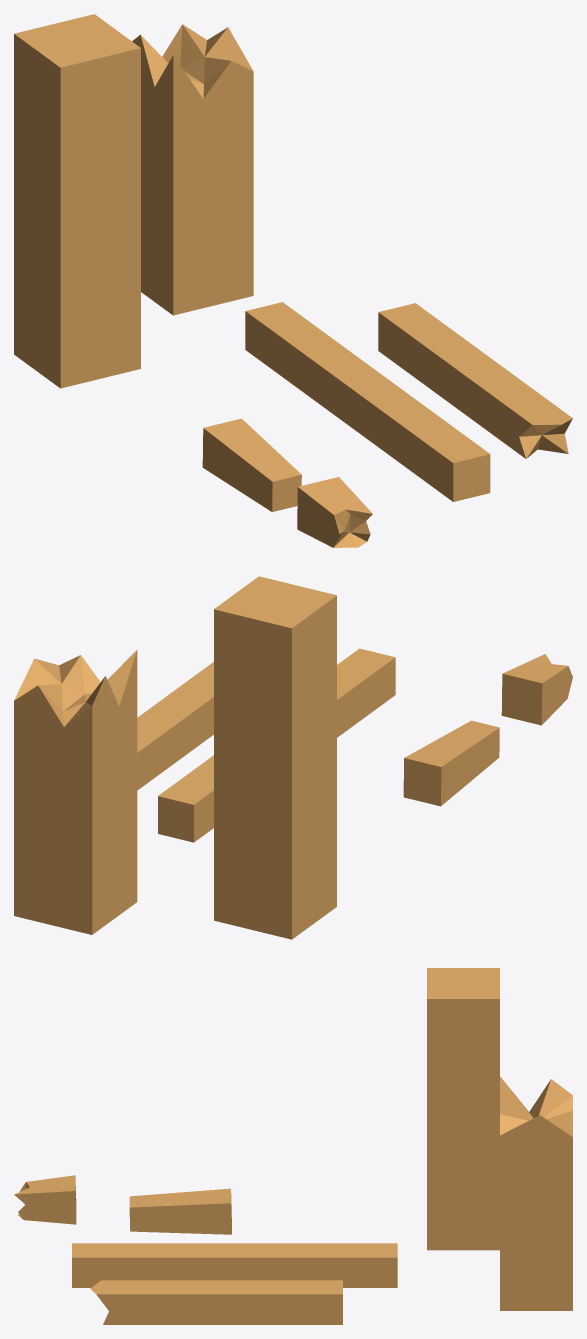
File: Fence-Pieces.fbx
3 renders of one model, top to bottom at view 1: azimuth 30°, elevation 25°; view 2: azimuth 150°, elevation 25°; view 3: azimuth 270°, elevation 25°, orthographic. The views are drawn at different scales.
Visible parts, largest first — view 1: Fence-piece-1, Fence-piece-1-b, Fence-piece-2, Fence-piece-2-b, Fence-piece-3, Fence-piece-3-b; view 2: Fence-piece-1, Fence-piece-1-b, Fence-piece-2, Fence-piece-2-b, Fence-piece-3, Fence-piece-3-b; view 3: Fence-piece-1, Fence-piece-1-b, Fence-piece-2, Fence-piece-2-b, Fence-piece-3, Fence-piece-3-b.
Boxes of the visible parts, bbox=[...] form: Fence-piece-1: bbox=[14, 14, 140, 388]; Fence-piece-1-b: bbox=[132, 24, 253, 315]; Fence-piece-2: bbox=[245, 302, 490, 501]; Fence-piece-2-b: bbox=[378, 303, 572, 458]; Fence-piece-3: bbox=[202, 418, 301, 511]; Fence-piece-3-b: bbox=[297, 477, 372, 547]; Fence-piece-1: bbox=[214, 576, 336, 939]; Fence-piece-1-b: bbox=[14, 649, 137, 934]; Fence-piece-2: bbox=[158, 648, 395, 842]; Fence-piece-2-b: bbox=[137, 662, 213, 790]; Fence-piece-3: bbox=[403, 720, 499, 806]; Fence-piece-3-b: bbox=[501, 654, 572, 725]; Fence-piece-1: bbox=[427, 968, 499, 1250]; Fence-piece-1-b: bbox=[500, 1076, 572, 1310]; Fence-piece-2: bbox=[72, 1243, 397, 1287]; Fence-piece-2-b: bbox=[90, 1280, 342, 1324]; Fence-piece-3: bbox=[129, 1188, 231, 1234]; Fence-piece-3-b: bbox=[14, 1175, 76, 1224].
Bounding box in the file's own units: 114 × 116 × 235.
